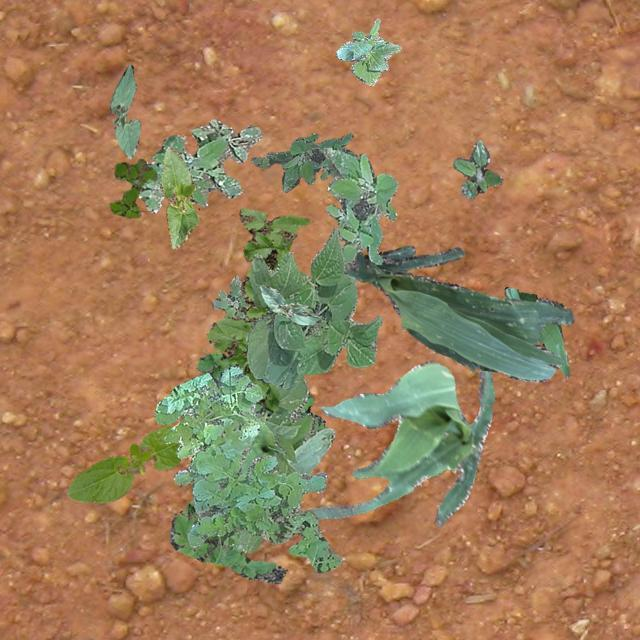crop: (342, 245, 574, 382), (309, 360, 493, 526), (245, 225, 382, 388), (234, 370, 334, 552), (66, 424, 180, 502), (504, 286, 568, 376), (334, 17, 400, 84), (160, 146, 200, 248), (108, 64, 140, 158), (240, 418, 284, 476), (260, 284, 320, 324)
weed: (154, 364, 342, 572), (168, 352, 324, 582), (205, 208, 308, 410), (138, 118, 262, 212), (322, 146, 396, 264), (249, 132, 355, 192), (452, 140, 502, 198), (108, 158, 156, 216), (212, 274, 248, 320)
